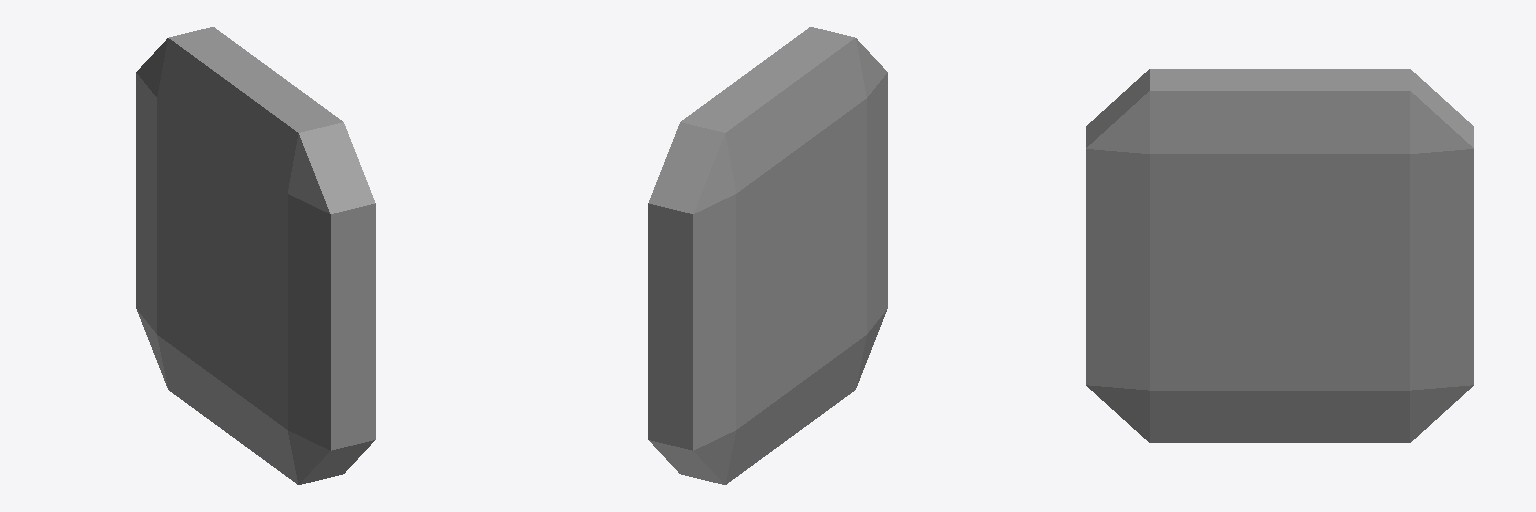
The model's file is coin.obj.
3 renders of one model, left to right at view 1: azimuth 30°, elevation 25°; view 2: azimuth 150°, elevation 25°; view 3: azimuth 270°, elevation 25°, orthographic.
Visible parts, largest first — view 1: Cube; view 2: Cube; view 3: Cube.
Boxes of the visible parts, x1,y1,x2,y2 form: Cube: [136, 27, 375, 484]; Cube: [648, 27, 887, 484]; Cube: [1086, 69, 1473, 442].
Bounding box in the file's own units: 0.4 × 2 × 2.